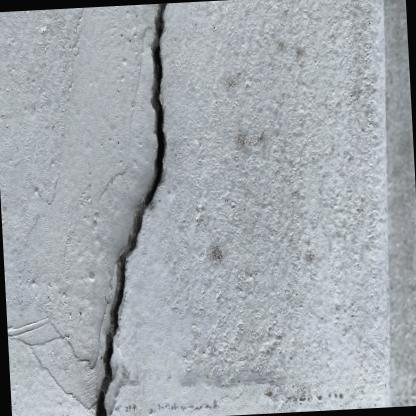crack: (93, 3, 167, 416)
